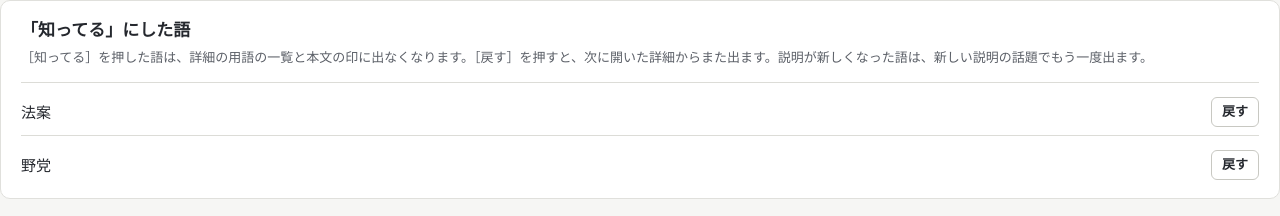
Scenario: KnownTermsSettings › いちばん下の語を戻すと前の語へ、最後の1語を戻すと「まだありません」と区切りの見出しへフォーカスを移す
The width and height of the screenshot is (1280, 216).
Click the button with aria-label "「野党」を戻す".
click(1235, 165)  # box [1211,150,1259,180]
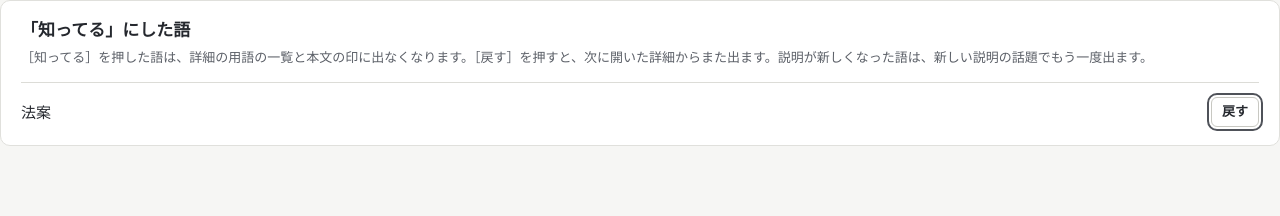
Click the button "戻す".
click(1235, 112)  # box [1211,97,1259,127]
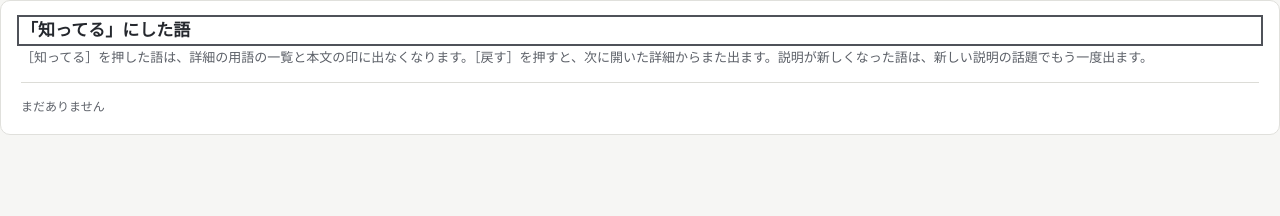
Expected: the text with test id "known-terms-empty" reads "まだありません", [21,98,105,115]
